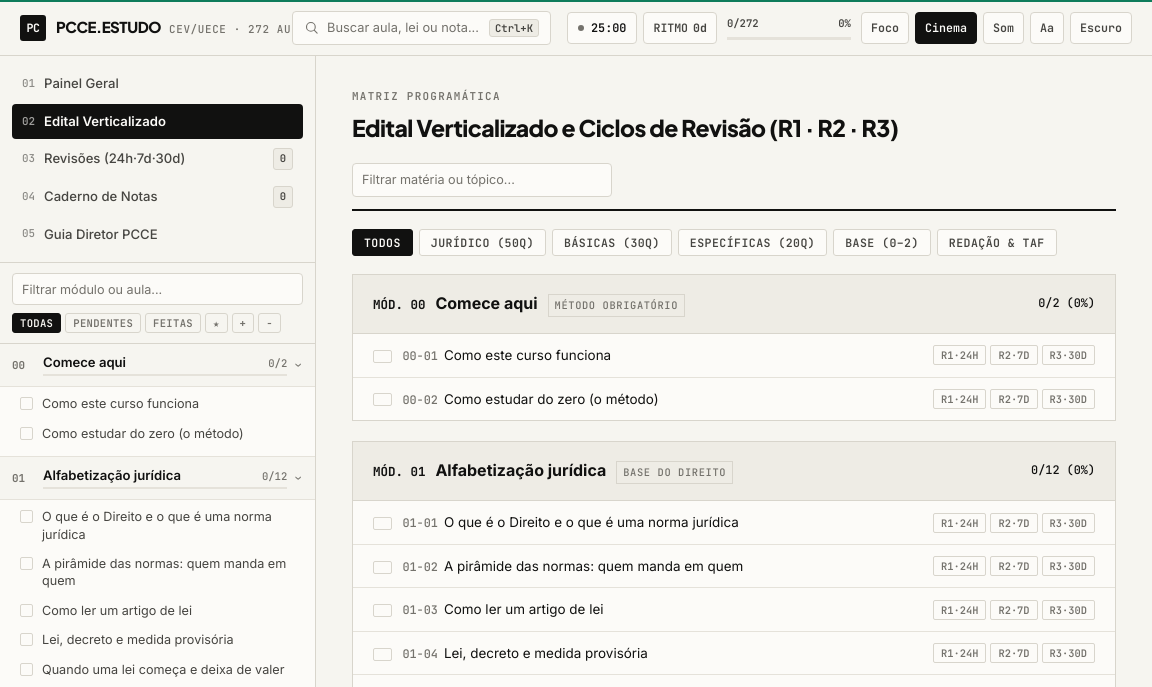
Test case: Telas de estudo › filtra o edital por bloco e por texto
The width and height of the screenshot is (1152, 687).
Step 1. Click the button "Jurídico (50q)" → {"x": 482, "y": 242}, box [419, 229, 546, 256]
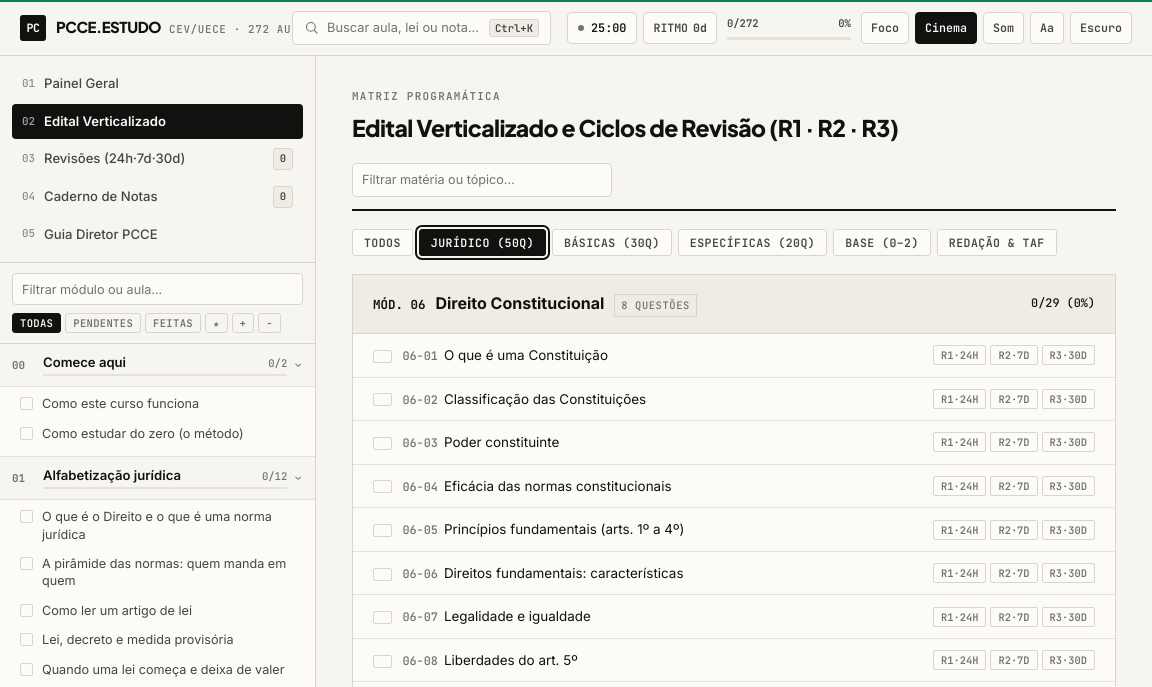
Step 2. Type "zzz-sem-resultado" into the search field labelled "Filtrar matéria ou tópico" → {"x": 482, "y": 180}, box [352, 163, 612, 197]
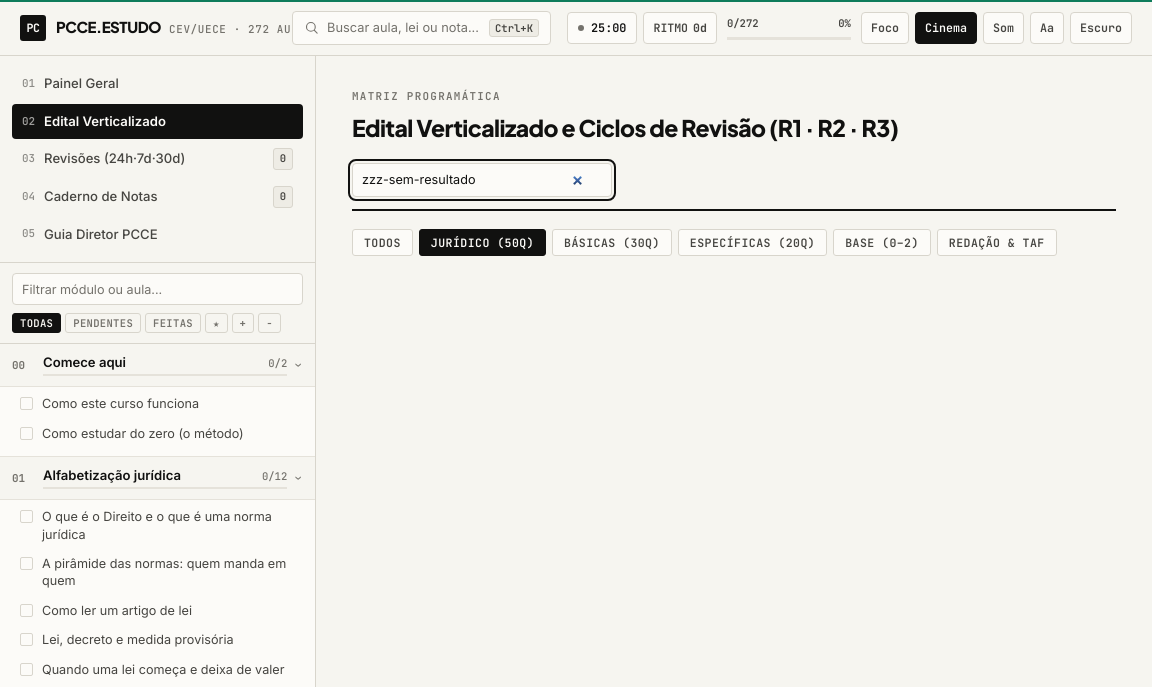
expect no elements with class "edital-module-block" are shown: met
